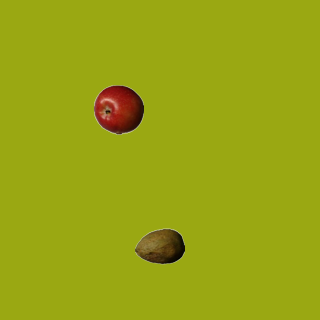Apple Braeburn: (93, 84, 143, 134)
Papaya: (134, 221, 184, 271)
